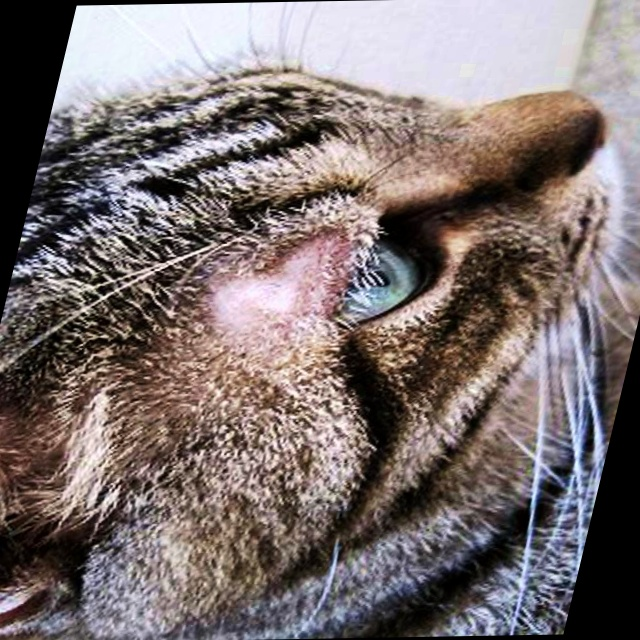hairloss: (199, 251, 323, 322)
